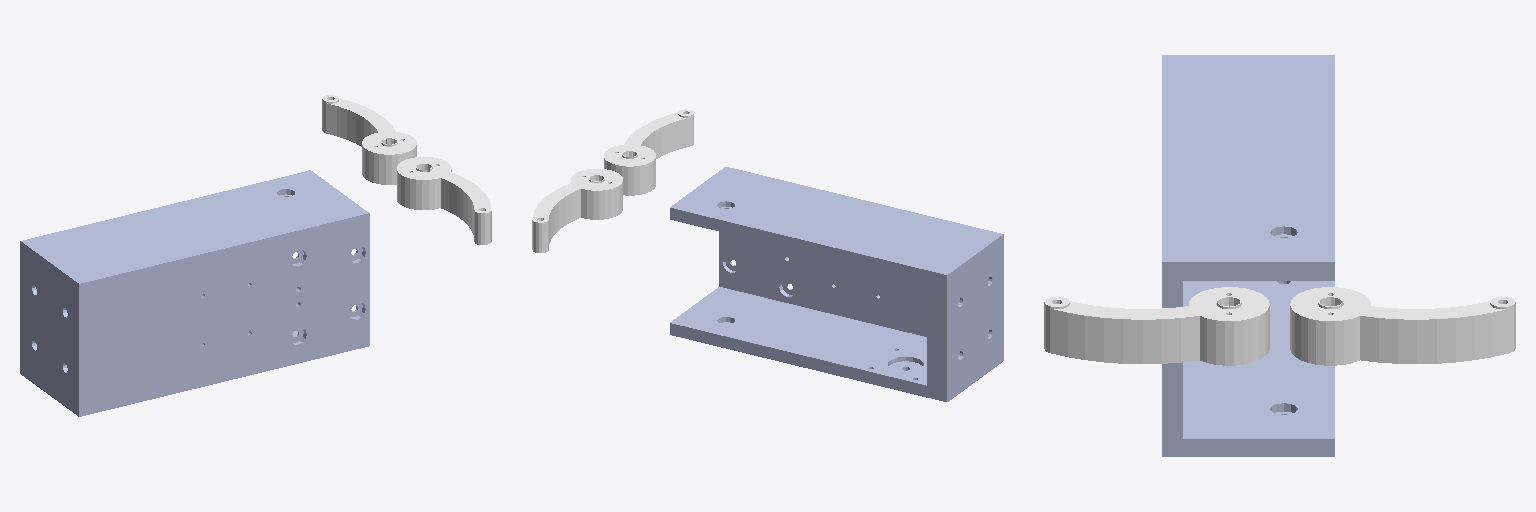
robot.urdf — gripperX:
<robot
  name="gripperX">
  <link
    name="base_link">
    <inertial>
      <origin
        xyz="0.050352 0.00098898 -0.011513"
        rpy="0 0 0" />
      <mass
        value="0.5932" />
      <inertia
        ixx="0.00018841"
        ixy="-3.1967E-07"
        ixz="-5.8261E-06"
        iyy="0.00024258"
        iyz="9.2455E-08"
        izz="0.00023818" />
    </inertial>
    <visual>
      <origin
        xyz="0 0 0"
        rpy="0 0 0" />
      <geometry>
        <mesh
          filename="base_link.stl" />
      </geometry>
      <material
        name="">
        <color
          rgba="0.79216 0.81961 0.93333 1" />
      </material>
    </visual>
    <collision>
      <origin
        xyz="0 0 0"
        rpy="0 0 0" />
      <geometry>
        <mesh
          filename="base_link.stl" />
      </geometry>
    </collision>
  </link>
  <link
    name="left_link">
    <inertial>
      <origin
        xyz="0.021725 0.013615 0.004"
        rpy="0 0 0" />
      <mass
        value="0.0080238" />
      <inertia
        ixx="1.2593E-06"
        ixy="-1.8777E-06"
        ixz="1.7426E-15"
        iyy="3.9834E-06"
        iyz="-1.5994E-14"
        izz="5.1571E-06" />
    </inertial>
    <visual>
      <origin
        xyz="0 0 0"
        rpy="0 0 0" />
      <geometry>
        <mesh
          filename="left_link.stl" />
      </geometry>
      <material
        name="">
        <color
          rgba="1 1 1 1" />
      </material>
    </visual>
    <collision>
      <origin
        xyz="0 0 0"
        rpy="0 0 0" />
      <geometry>
        <mesh
          filename="left_link.stl" />
      </geometry>
    </collision>
  </link>
  <joint
    name="left_joint"
    type="continuous">
    <origin
      xyz="0.078287 0.021 0.012011"
      rpy="0 0 0" />
    <parent
      link="base_link" />
    <child
      link="left_link" />
    <axis
      xyz="0 0 1" />
  </joint>
  <link
    name="left_gripper">
    <inertial>
      <origin
        xyz="0.044598 -0.010508 -0.026"
        rpy="0 0 0" />
      <mass
        value="0.057015" />
      <inertia
        ixx="8.9508E-06"
        ixy="9.3005E-06"
        ixz="-1.2138E-21"
        iyy="4.9144E-05"
        iyz="4.3498E-23"
        izz="4.7411E-05" />
    </inertial>
    <visual>
      <origin
        xyz="0 0 0"
        rpy="0 0 0" />
      <geometry>
        <mesh
          filename="left_gripper.stl" />
      </geometry>
      <material
        name="">
        <color
          rgba="1 1 1 1" />
      </material>
    </visual>
    <collision>
      <origin
        xyz="0 0 0"
        rpy="0 0 0" />
      <geometry>
        <mesh
          filename="left_gripper.stl" />
      </geometry>
    </collision>
  </link>
  <joint
    name="left_gripper_joint"
    type="continuous">
    <origin
      xyz="0.062744 0.026213 0.009"
      rpy="0 0 0" />
    <parent
      link="left_link" />
    <child
      link="left_gripper" />
    <axis
      xyz="0 0 1" />
  </joint>
  <link
    name="right_link">
    <inertial>
      <origin
        xyz="0.021749 0.013576 -0.004"
        rpy="0 0 0" />
      <mass
        value="0.0080238" />
      <inertia
        ixx="1.2526E-06"
        ixy="-1.8728E-06"
        ixz="1.715E-15"
        iyy="3.9901E-06"
        iyz="-1.6001E-14"
        izz="5.1571E-06" />
    </inertial>
    <visual>
      <origin
        xyz="0 0 0"
        rpy="0 0 0" />
      <geometry>
        <mesh
          filename="right_link.stl" />
      </geometry>
      <material
        name="">
        <color
          rgba="1 1 1 1" />
      </material>
    </visual>
    <collision>
      <origin
        xyz="0 0 0"
        rpy="0 0 0" />
      <geometry>
        <mesh
          filename="right_link.stl" />
      </geometry>
    </collision>
  </link>
  <joint
    name="right_joint"
    type="continuous">
    <origin
      xyz="0.078287 -0.019 0.012011"
      rpy="3.1416 0 0" />
    <parent
      link="base_link" />
    <child
      link="right_link" />
    <axis
      xyz="0 0 -1" />
  </joint>
  <link
    name="right_gripper">
    <inertial>
      <origin
        xyz="0.044598 -0.010508 0.026"
        rpy="0 0 0" />
      <mass
        value="0.057015" />
      <inertia
        ixx="8.9508E-06"
        ixy="9.3005E-06"
        ixz="-1.9882E-21"
        iyy="4.9144E-05"
        iyz="-8.4185E-23"
        izz="4.7411E-05" />
    </inertial>
    <visual>
      <origin
        xyz="0 0 0"
        rpy="0 0 0" />
      <geometry>
        <mesh
          filename="right_gripper.stl" />
      </geometry>
      <material
        name="">
        <color
          rgba="1 1 1 1" />
      </material>
    </visual>
    <collision>
      <origin
        xyz="0 0 0"
        rpy="0 0 0" />
      <geometry>
        <mesh
          filename="right_gripper.stl" />
      </geometry>
    </collision>
  </link>
  <joint
    name="right_gripper_joint"
    type="continuous">
    <origin
      xyz="0.062791 0.026101 -0.009"
      rpy="0 0 0" />
    <parent
      link="right_link" />
    <child
      link="right_gripper" />
    <axis
      xyz="0 0 -1" />
  </joint>
</robot>

--- What the picture shows (computed from the rendered views, not written in the file) ---
3 views of the same robot in one strip: view 1: azimuth 30°, elevation 25°; view 2: azimuth 150°, elevation 25°; view 3: azimuth 270°, elevation 25° (orthographic).
Model gripperX with 5 links and 4 joints (4 continuous), rooted at base_link, posed every joint at zero.
Visible links, largest first — view 1: base_link, right_link, left_link; view 2: base_link, left_link, right_link; view 3: base_link, right_link, left_link.
Boxes of the visible links, box(x1,y1,x2,y2) form: base_link: box(20, 170, 369, 416); right_link: box(397, 157, 491, 244); left_link: box(322, 95, 416, 184); base_link: box(670, 167, 1003, 401); left_link: box(532, 169, 622, 252); right_link: box(604, 109, 693, 195); base_link: box(1162, 55, 1334, 456); right_link: box(1044, 287, 1269, 365); left_link: box(1290, 287, 1515, 365).
Size in the robot's own frame: 0.2616 by 0.1859 by 0.0919 metres.
3 mesh visuals loaded from 5 distinct referenced files (3 binary STL); not drawn: 2 (reference not matched to a file when rendering).